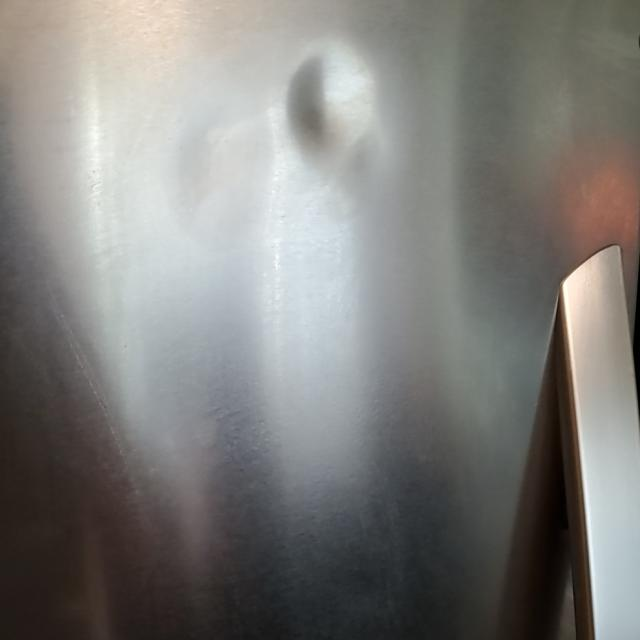dents: (272, 36, 438, 243)
